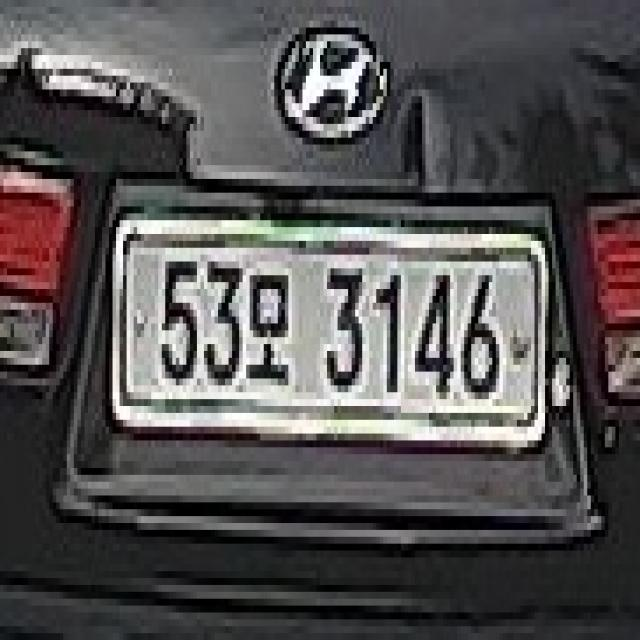1: (369, 262, 408, 399)
3: (320, 248, 373, 392), (197, 234, 239, 385)
4: (412, 262, 457, 406)
5: (155, 248, 197, 385)
6: (454, 268, 514, 392)
license_plate: (106, 206, 548, 468)
mo: (246, 254, 292, 378)
